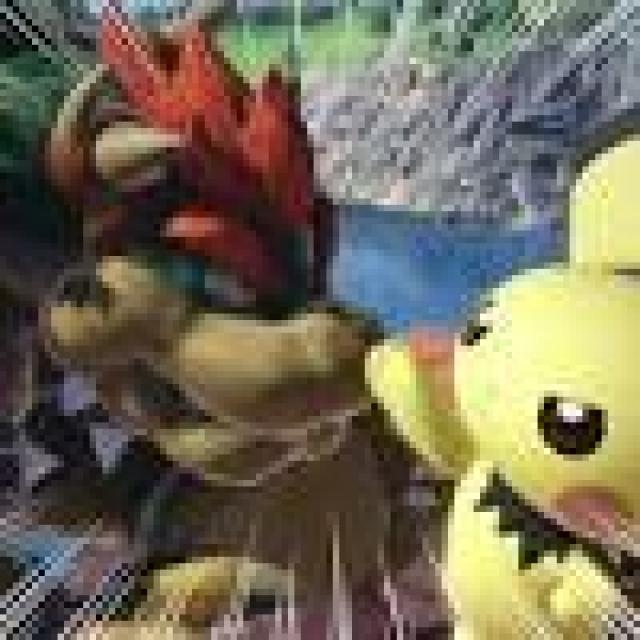pichu: (365, 110, 640, 640)
